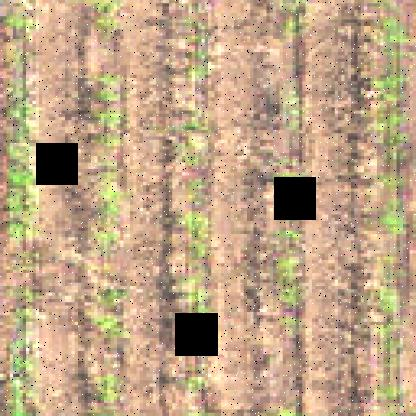sorghum_plant: (168, 122, 223, 396), (368, 0, 416, 244), (0, 10, 48, 250), (82, 68, 130, 260), (363, 271, 416, 416), (0, 281, 50, 416), (268, 222, 316, 362), (84, 274, 130, 416), (172, 5, 222, 87), (266, 76, 326, 140), (272, 0, 314, 42), (87, 0, 125, 37), (268, 167, 322, 188)
